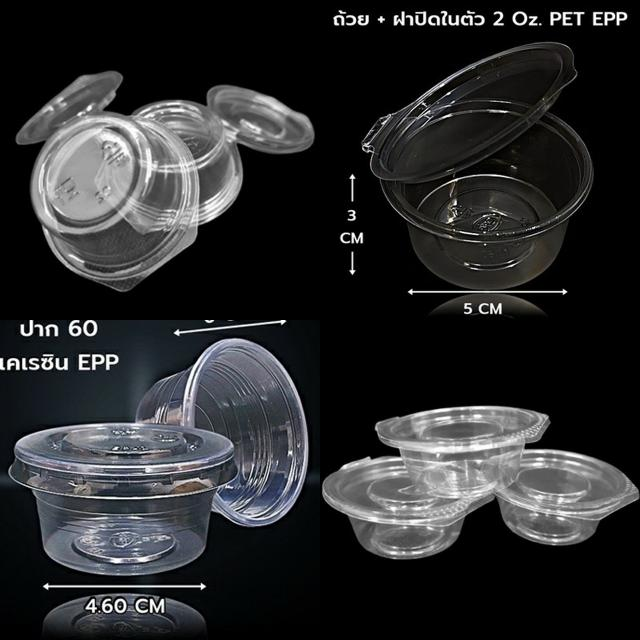Single-Use-Plastic: (362, 42, 592, 288), (9, 422, 236, 576), (136, 339, 309, 526), (31, 112, 199, 291), (134, 85, 315, 223), (322, 456, 494, 559), (375, 406, 549, 498), (496, 450, 639, 545)
